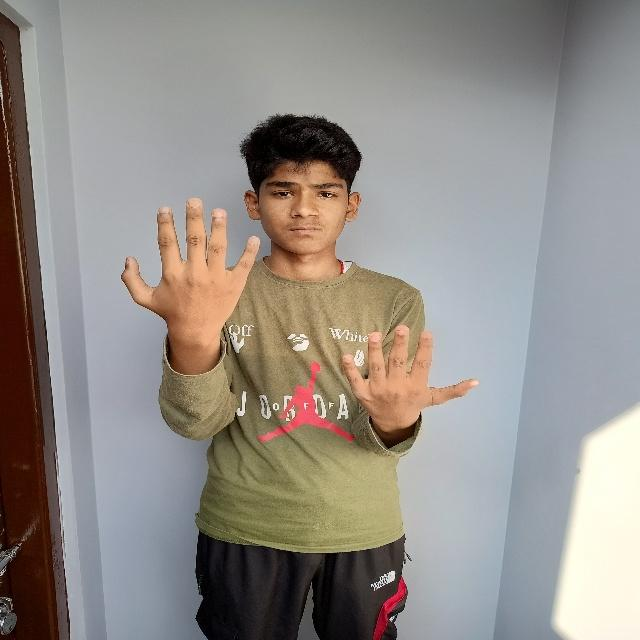Moutza: (116, 193, 264, 350), (329, 316, 488, 427)
